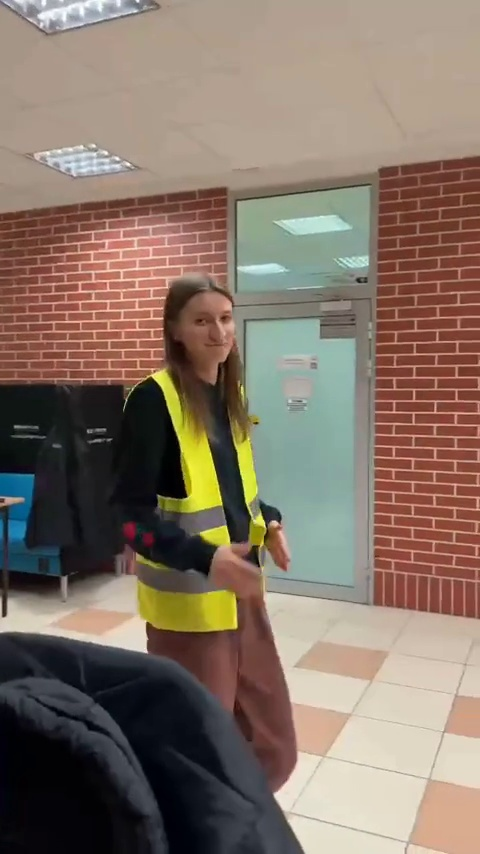vest: (103, 262, 320, 810)
